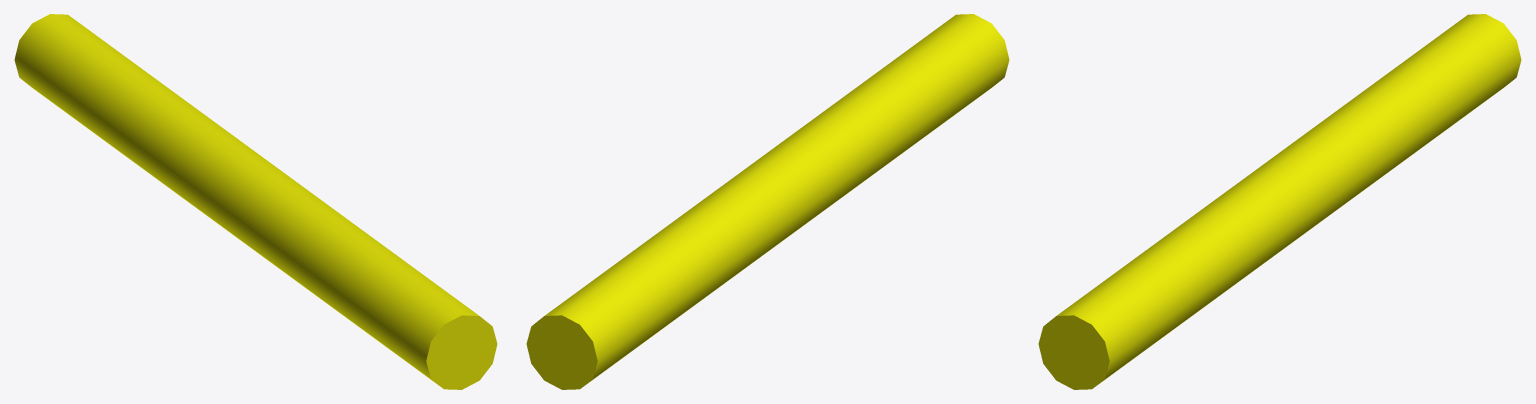
File: pipe_small.dae
3 views of the same model, side by side, from view 1: azimuth 30°, elevation 25°; view 2: azimuth 150°, elevation 25°; view 3: azimuth 330°, elevation 25° (orthographic).
Visible parts, largest first — view 1: NurbsPath; view 2: NurbsPath; view 3: NurbsPath.
Boxes of the visible parts, box(x1,y1,x2,y2) form: NurbsPath: box(14, 14, 497, 389); NurbsPath: box(526, 14, 1009, 389); NurbsPath: box(1038, 14, 1521, 389).
Size of the model in its own units: 0.1 by 1 by 0.1.
